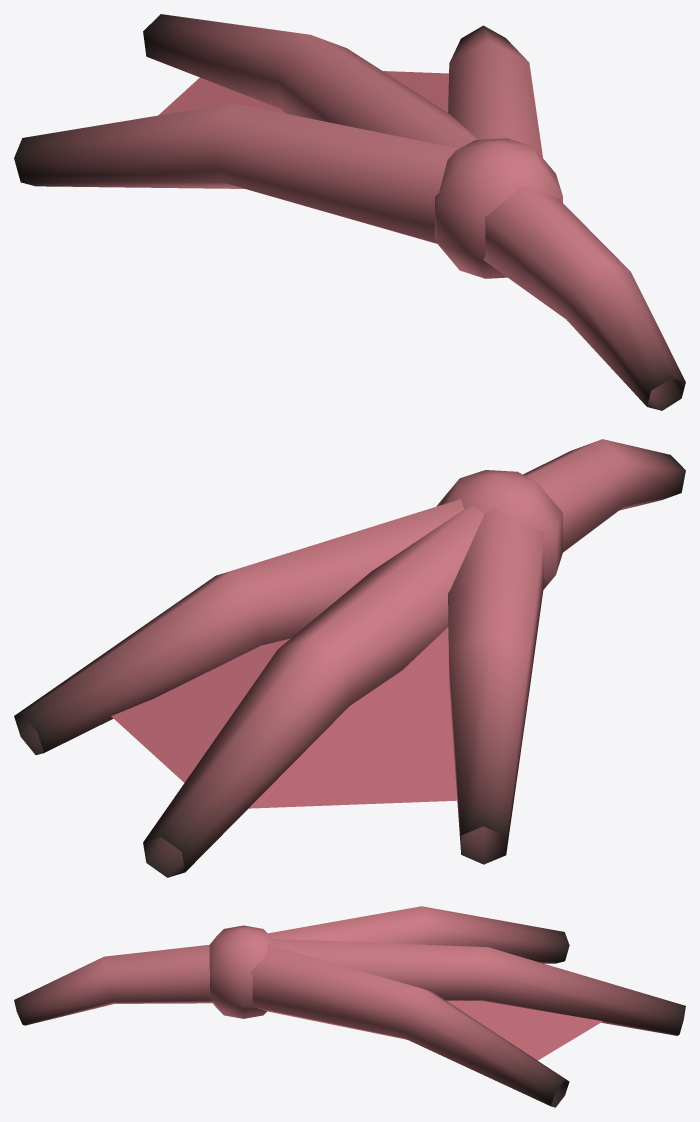
File: Flamingo_Body_Limb1F.fbx
The picture shows the model from 3 angles, top to bottom: view 1: azimuth 30°, elevation 25°; view 2: azimuth 150°, elevation 25°; view 3: azimuth 270°, elevation 25°; orthographic projection. The views are drawn at different scales.
Visible parts, largest first — view 1: Flamingo_Body_Limb1F; view 2: Flamingo_Body_Limb1F; view 3: Flamingo_Body_Limb1F.
Part boxes in pixels (<box>): Flamingo_Body_Limb1F: <box>14,14,685,410</box>; Flamingo_Body_Limb1F: <box>14,439,685,877</box>; Flamingo_Body_Limb1F: <box>14,906,685,1107</box>.
Size of the model in its own units: 1.67 by 0.5266 by 3.
